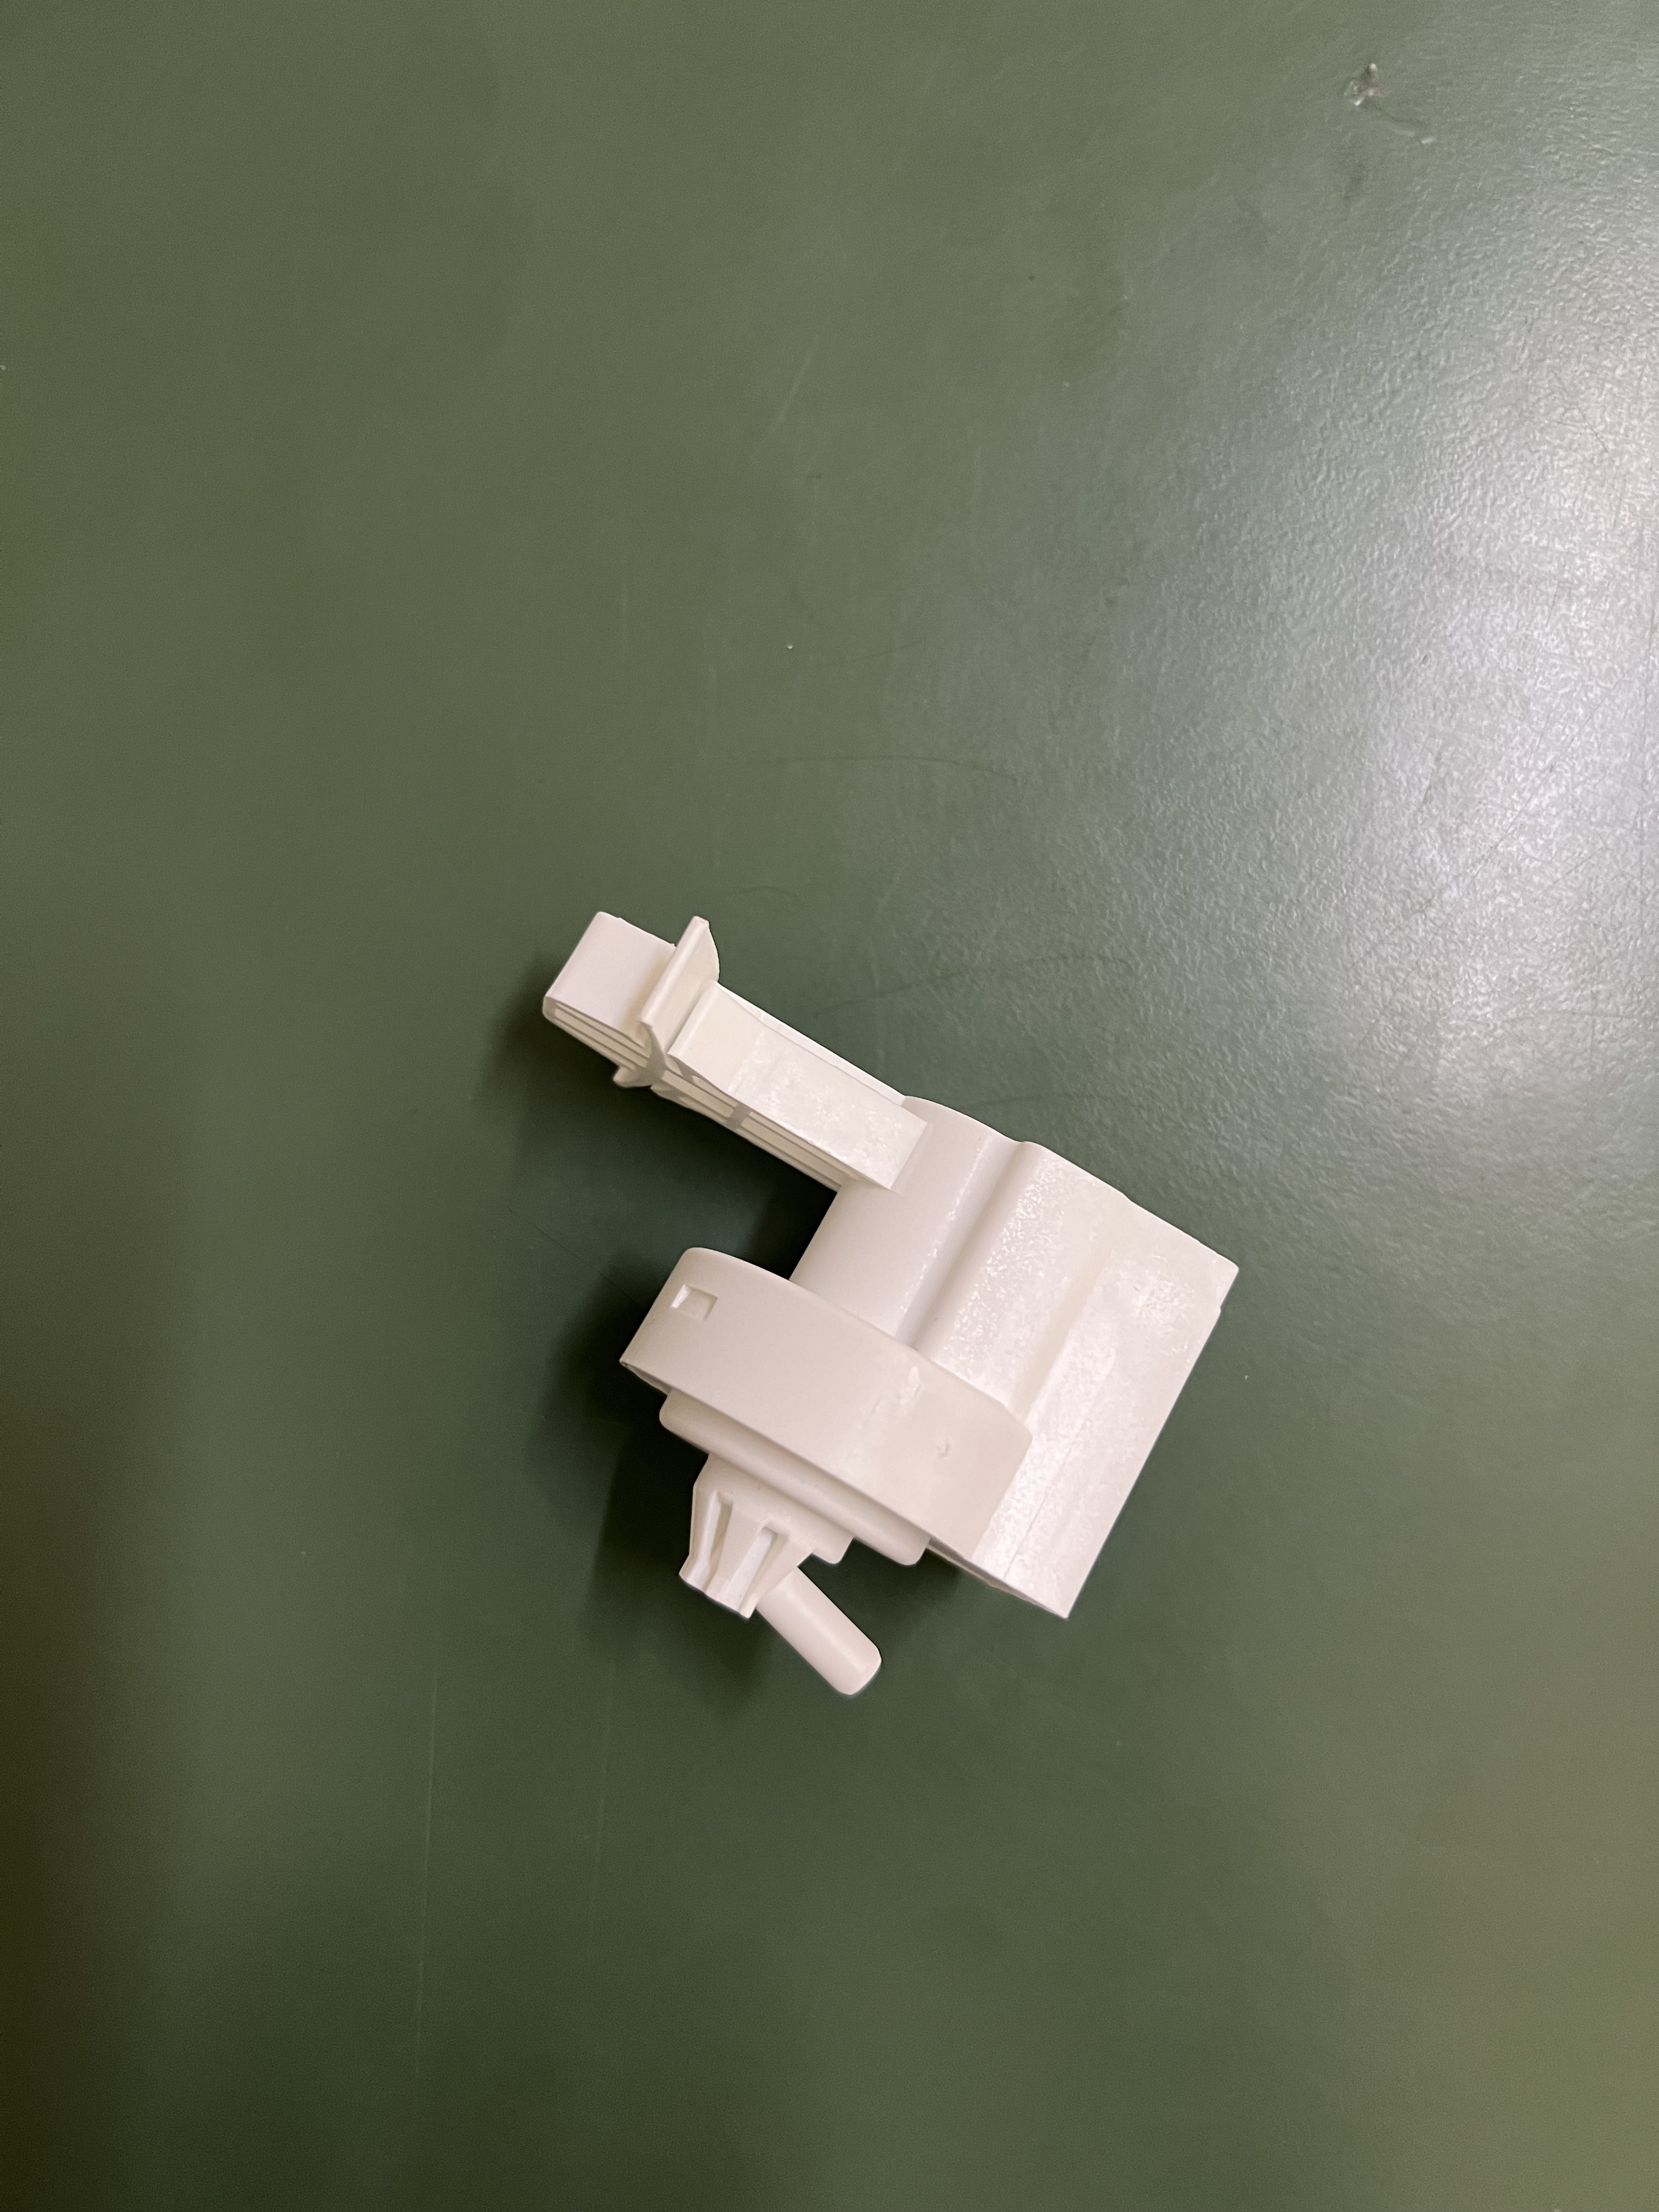pressure_switch_1: (551, 906, 1256, 1766)
